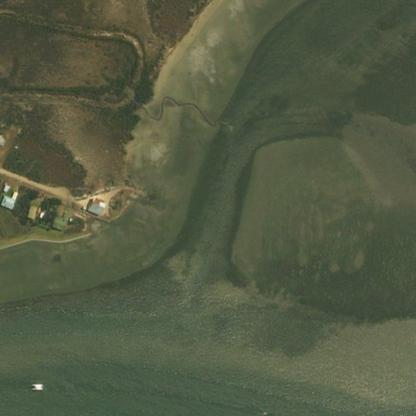ship: (31, 383, 42, 390)
